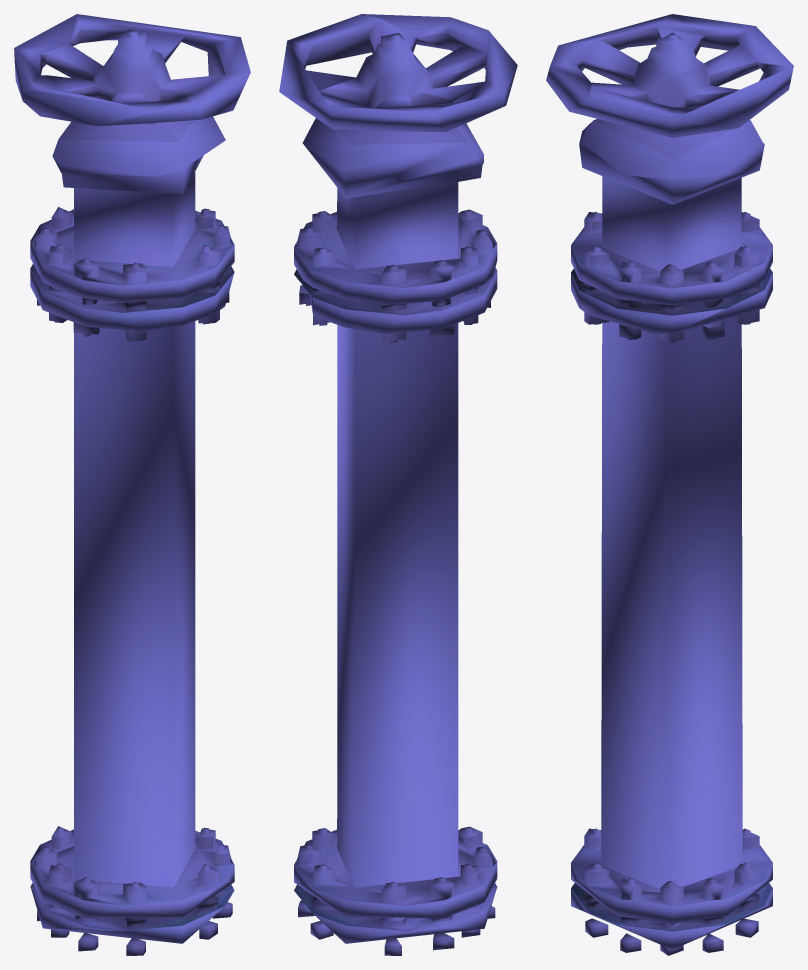
Rendered from model.progressive.glb.
3 renders of one model, left to right at view 1: azimuth 30°, elevation 25°; view 2: azimuth 150°, elevation 25°; view 3: azimuth 270°, elevation 25°, orthographic.
Visible parts, largest first — view 1: material; view 2: material; view 3: material.
Part boxes in pixels (<box>): material: <box>14,14,250,955</box>; material: <box>279,14,517,955</box>; material: <box>546,14,793,955</box>.
Size of the model in its own units: 0.4881 by 1.89 by 0.4823.
1 material, 1 textured.
